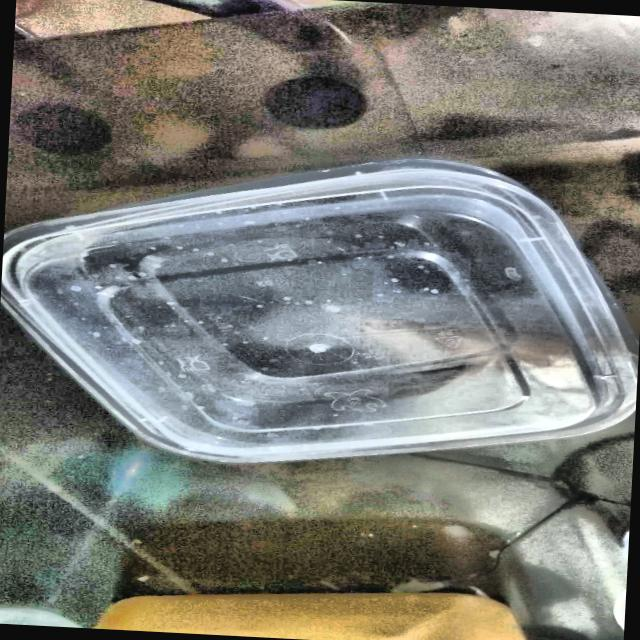plastic container: (3, 160, 635, 463)
